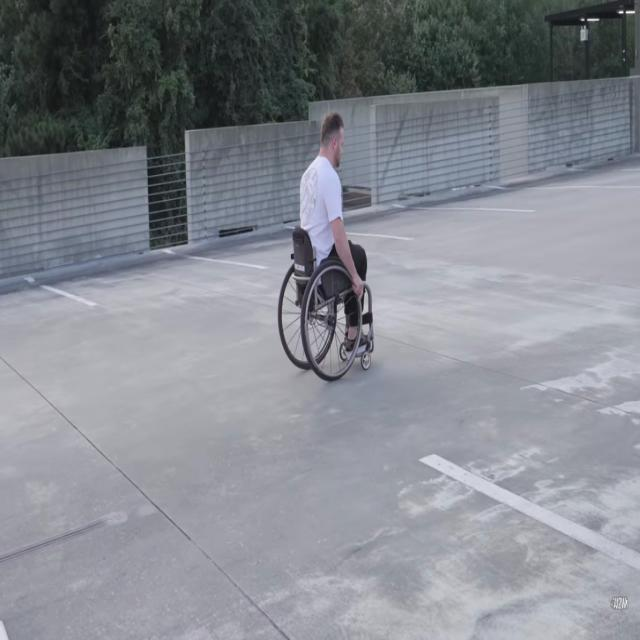wheelchairs: (281, 233, 375, 382)
